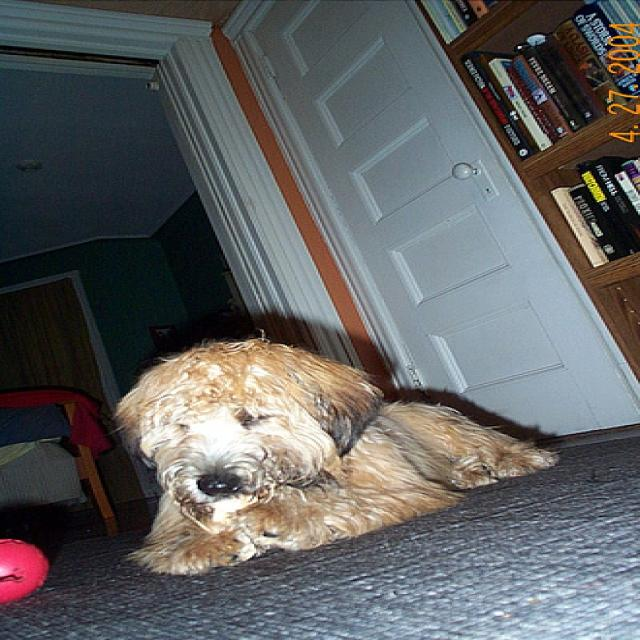dog-wheaten_terrier: (103, 332, 564, 582)
